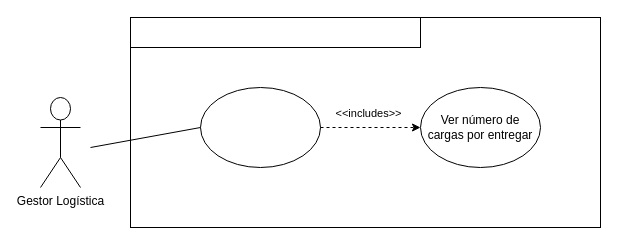
The diagram is 618 pixels wide and 245 high, and some of its shapes have lost their labels. The shapes that lost their labels are listed below. From the top down, each one's centre as x and y in pixels, then its label:
the point at 275,32: Intelligent Logistics: Consultar falhas nas entregas
the point at 260,127: Consulta estatisticas diarias
